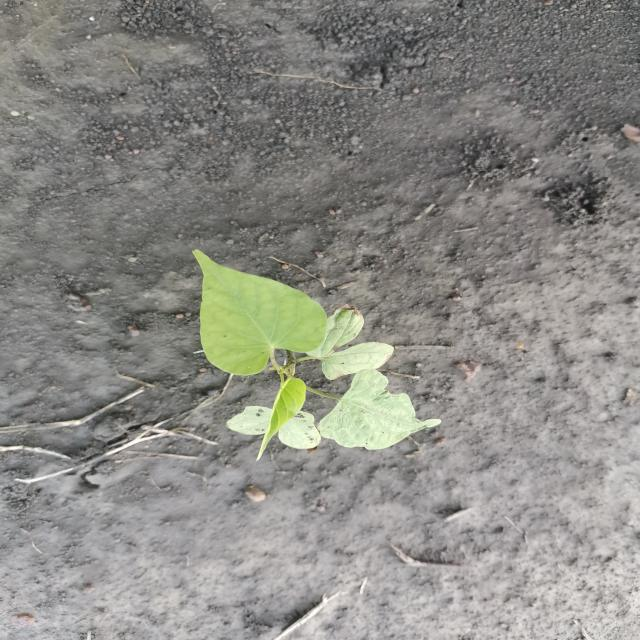MorningGlory: (187, 247, 446, 463)
